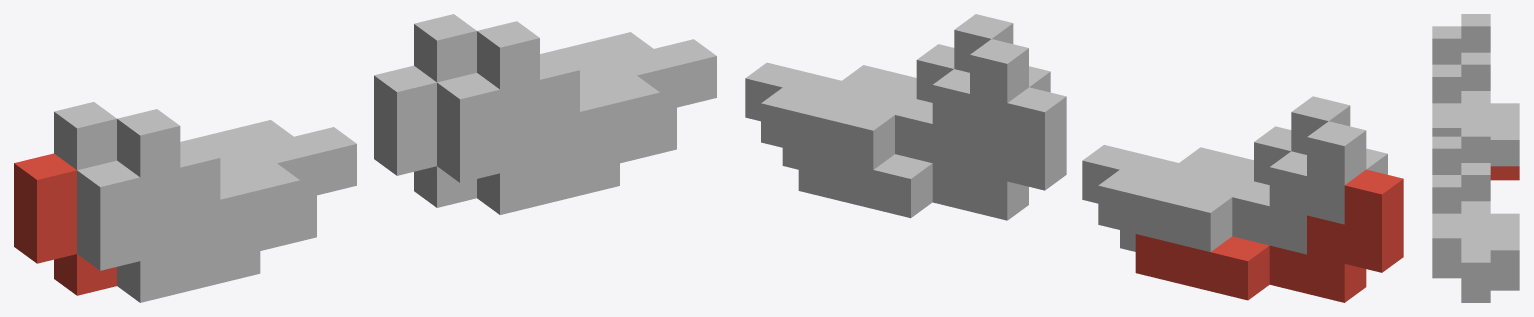
The model's file is tiling.obj.
3 renders of one model, left to right at view 1: azimuth 30°, elevation 25°; view 2: azimuth 150°, elevation 25°; view 3: azimuth 270°, elevation 25°, orthographic. The views are drawn at different scales.
Parts seen in each view (by area): view 1: copy_1_domain_4, copy_1_domain_8, copy_1_domain_2, copy_1_domain_6, copy_1_domain_1, copy_1_domain_5, copy_1_domain_3, copy_1_domain_7; view 2: copy_1_domain_3, copy_1_domain_7, copy_1_domain_1, copy_1_domain_5, copy_1_domain_8, copy_1_domain_4, copy_1_domain_6, copy_1_domain_2; view 3: copy_1_domain_8, copy_1_domain_7, copy_1_domain_3, copy_1_domain_4, copy_1_domain_6, copy_1_domain_1, copy_1_domain_5.
Part boxes in pixels (x1,y1,x2,y2): copy_1_domain_4: [117, 109, 356, 251]; copy_1_domain_8: [477, 21, 716, 163]; copy_1_domain_2: [77, 160, 316, 302]; copy_1_domain_6: [437, 73, 676, 214]; copy_1_domain_1: [14, 153, 116, 295]; copy_1_domain_5: [374, 65, 476, 207]; copy_1_domain_3: [54, 102, 293, 176]; copy_1_domain_7: [414, 14, 653, 89]; copy_1_domain_3: [1098, 121, 1366, 254]; copy_1_domain_7: [761, 39, 1028, 172]; copy_1_domain_1: [1135, 169, 1403, 302]; copy_1_domain_5: [798, 87, 1066, 220]; copy_1_domain_8: [745, 14, 1013, 121]; copy_1_domain_4: [1082, 96, 1350, 203]; copy_1_domain_6: [782, 66, 1050, 169]; copy_1_domain_2: [1120, 148, 1387, 251]; copy_1_domain_8: [1432, 136, 1490, 288]; copy_1_domain_7: [1461, 124, 1519, 276]; copy_1_domain_3: [1461, 14, 1519, 166]; copy_1_domain_4: [1432, 26, 1490, 136]; copy_1_domain_6: [1432, 264, 1490, 302]; copy_1_domain_1: [1490, 166, 1519, 180]; copy_1_domain_5: [1490, 276, 1519, 290].
Bounding box in the file's own units: 17 × 4 × 3.
